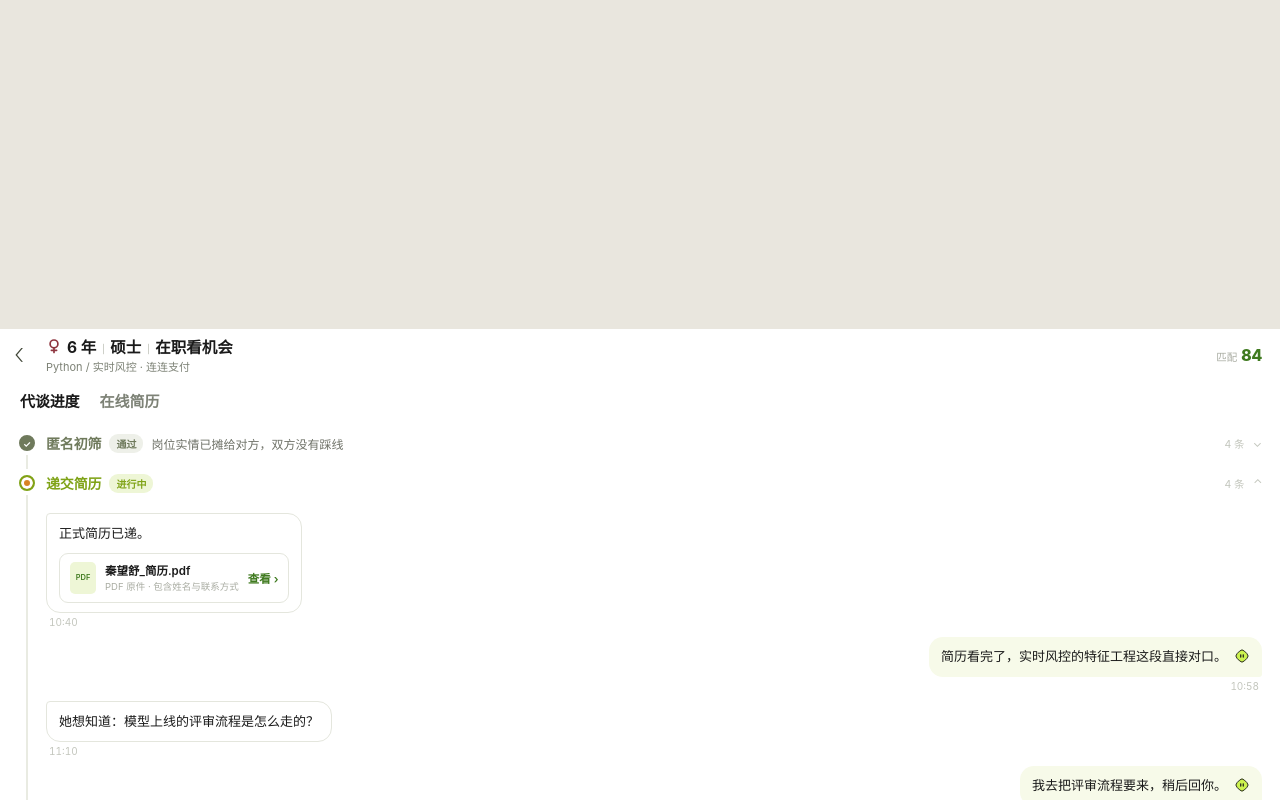
Scenario: 候选详情 · Mock 资料 Tab 共用在线简历正文（Task 4） › B-02 无简历档：同一正文里逐区显示缺失，不另起一页、不出假薪资一致性
(page scrolled)
Click the button "在线简历": (129, 400) x1=99 y1=390 x2=159 y2=411
(page scrolled)
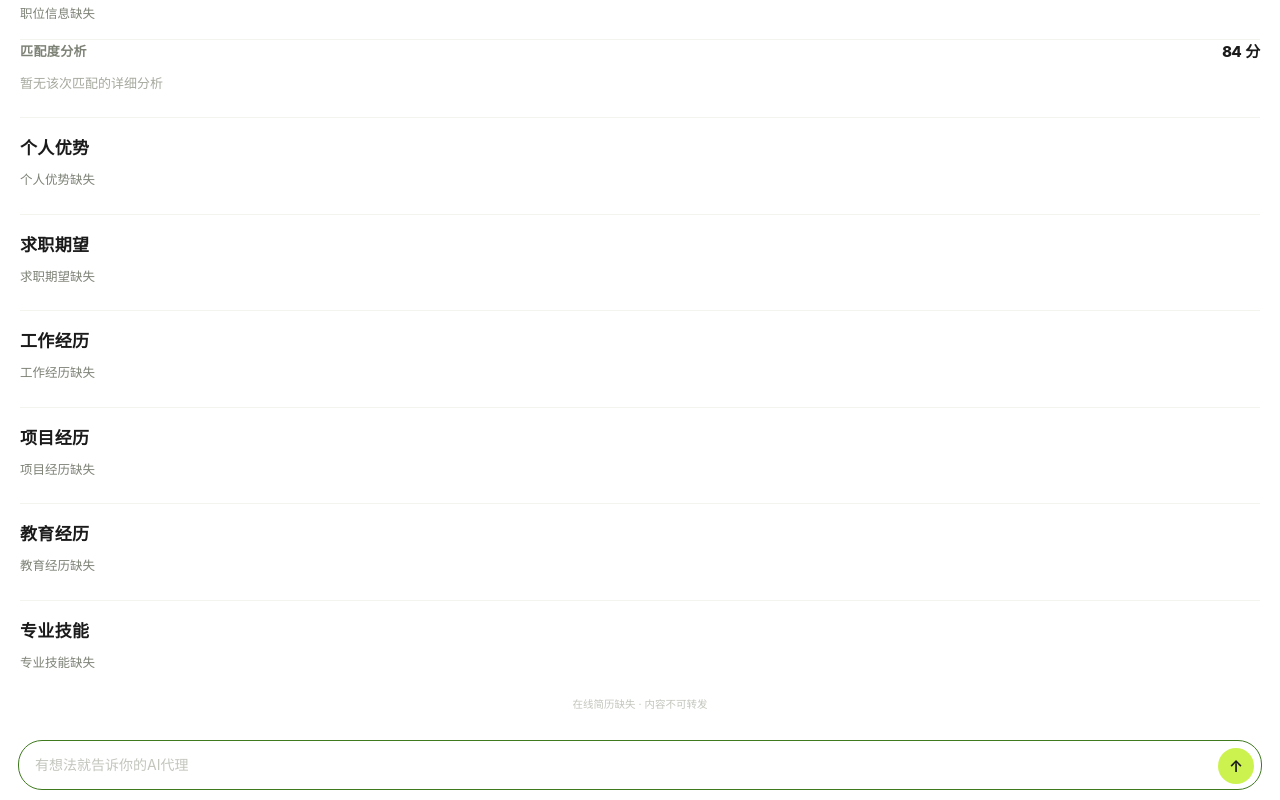
Check: the text "个人优势缺失" is shown, box x1=20 y1=172 x2=95 y2=187
Check: the text "工作经历缺失" is shown, box x1=20 y1=365 x2=95 y2=380
Check: the text "在线简历缺失 · 内容不可转发" is shown, box x1=572 y1=698 x2=707 y2=711
